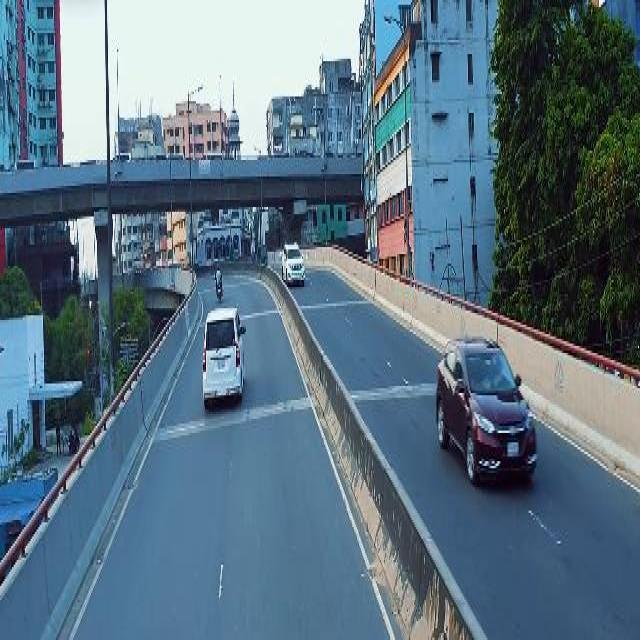bike: (214, 262, 225, 300)
vehicle: (435, 335, 540, 495), (201, 306, 248, 407), (280, 240, 306, 289)
